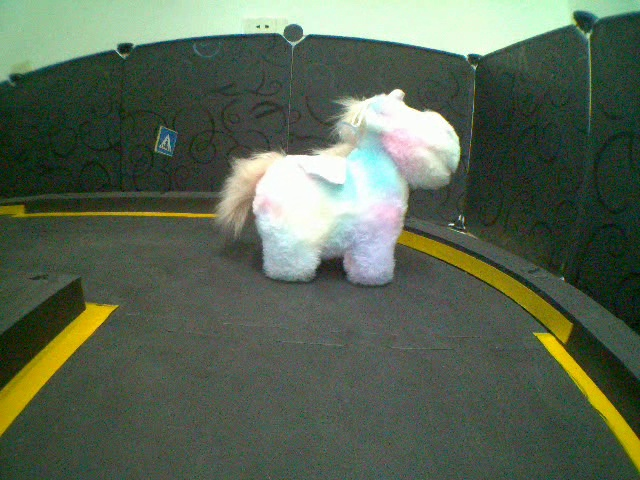unicorn: (220, 84, 461, 289)
